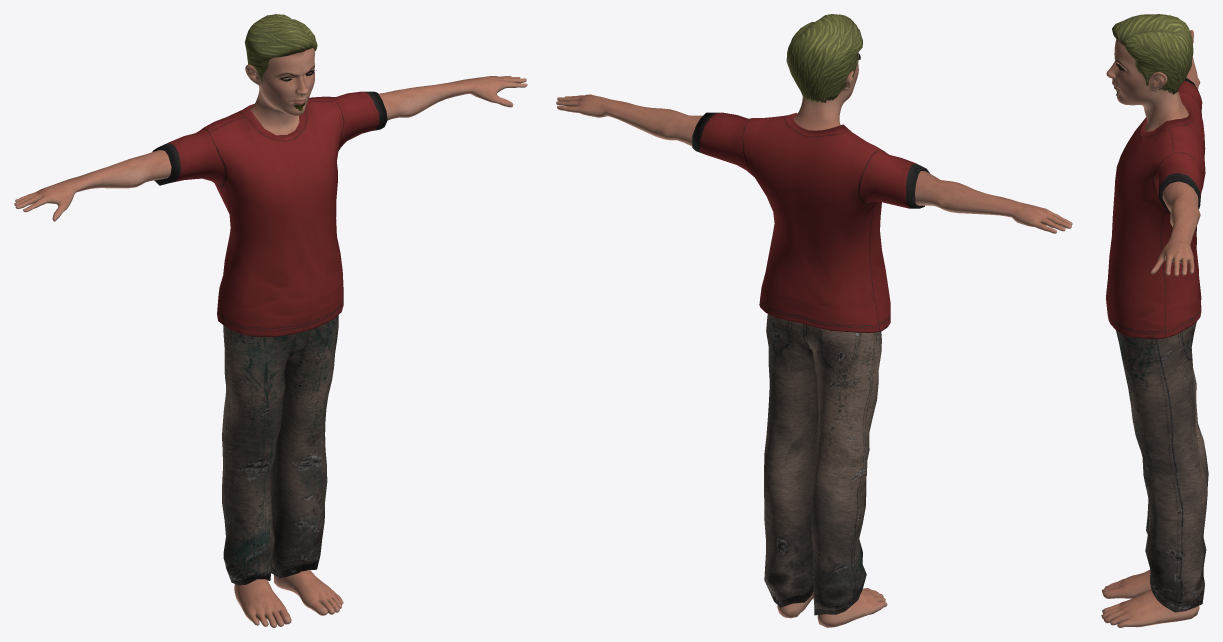
Rendered from hero before coma in casual outfit.obj.
3 views of the same model, side by side, from view 1: azimuth 30°, elevation 25°; view 2: azimuth 150°, elevation 25°; view 3: azimuth 270°, elevation 25° (orthographic).
Parts seen in each view (by area): view 1: Tops, Bottoms, Body, Hair; view 2: Bottoms, Tops, Body, Hair; view 3: Bottoms, Tops, Body, Hair.
Part boxes in pixels (box(x1,y1,x2,y2)): Tops: box(152, 91, 387, 337); Bottoms: box(222, 315, 338, 585); Body: box(14, 48, 527, 627); Hair: box(244, 14, 317, 83); Bottoms: box(764, 314, 881, 615); Tops: box(692, 112, 929, 332); Body: box(556, 52, 1072, 627); Hair: box(786, 14, 862, 102); Bottoms: box(1116, 322, 1208, 612); Tops: box(1106, 78, 1205, 338); Body: box(1101, 30, 1200, 627); Hair: box(1112, 14, 1193, 94).
Size of the model in its own units: 156 by 171 by 28.03.
Materials: 5 (5 with a texture image).
